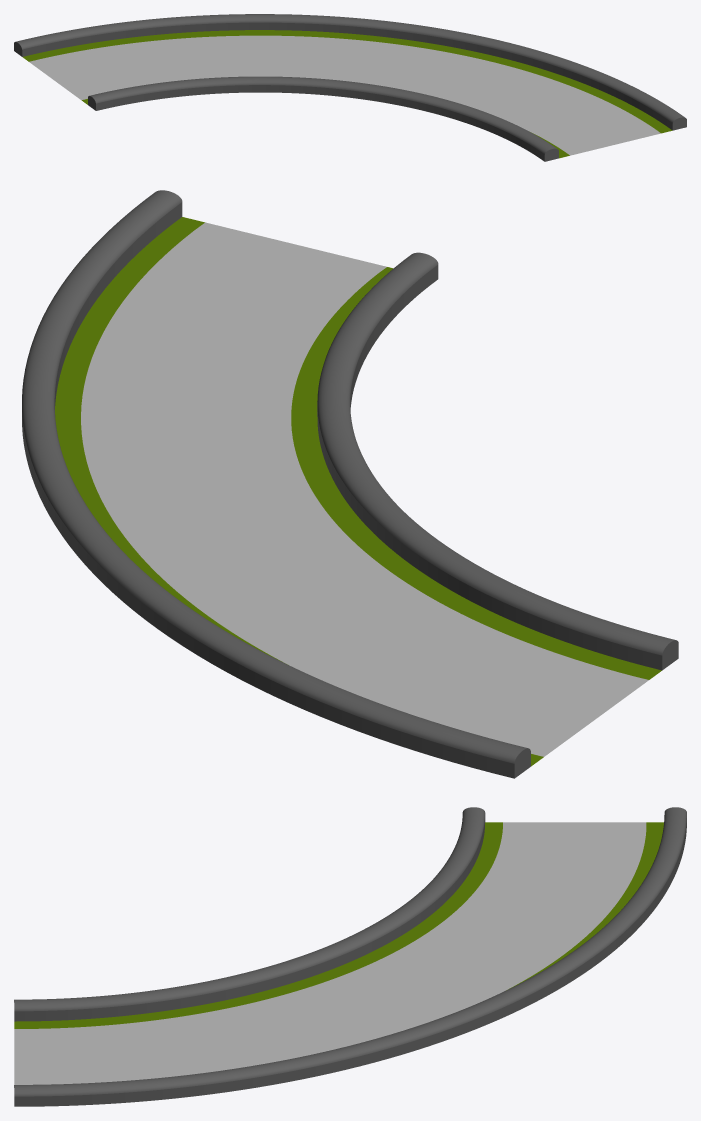
The model's file is corner3x.gltf.
The picture shows the model from 3 angles, top to bottom: view 1: azimuth 30°, elevation 25°; view 2: azimuth 150°, elevation 25°; view 3: azimuth 270°, elevation 25°; orthographic projection. The views are drawn at different scales.
Parts seen in each view (by area): view 1: $ColladaAutoName$_0; view 2: $ColladaAutoName$_0; view 3: $ColladaAutoName$_0.
Part boxes in pixels (x1,y1,x2,y2): $ColladaAutoName$_0: (14, 14, 686, 161); $ColladaAutoName$_0: (22, 190, 678, 778); $ColladaAutoName$_0: (14, 807, 686, 1106).
Size of the model in its own units: 3 by 0.075 by 3.
